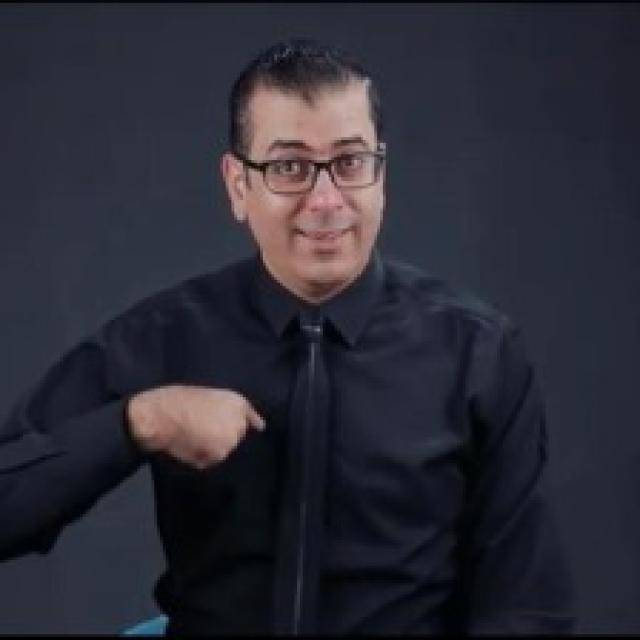me: (137, 381, 268, 473)
